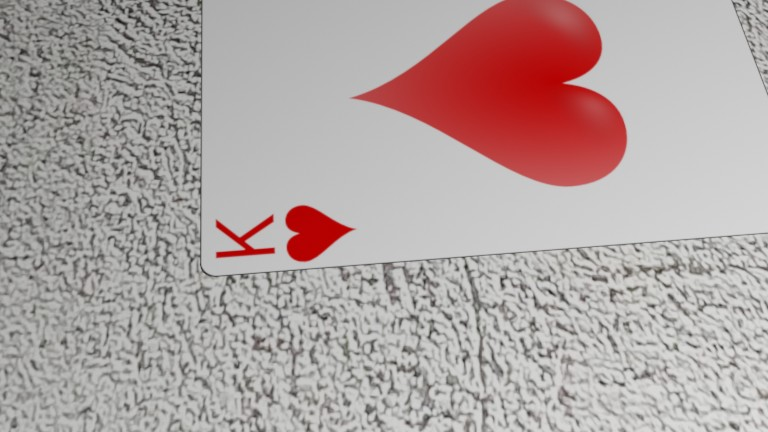king_of_hearts: (212, 196, 358, 272)
